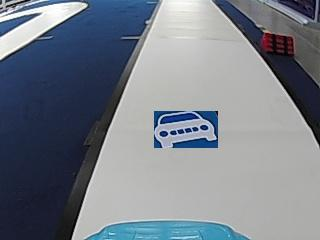bomb: (259, 31, 295, 54)
